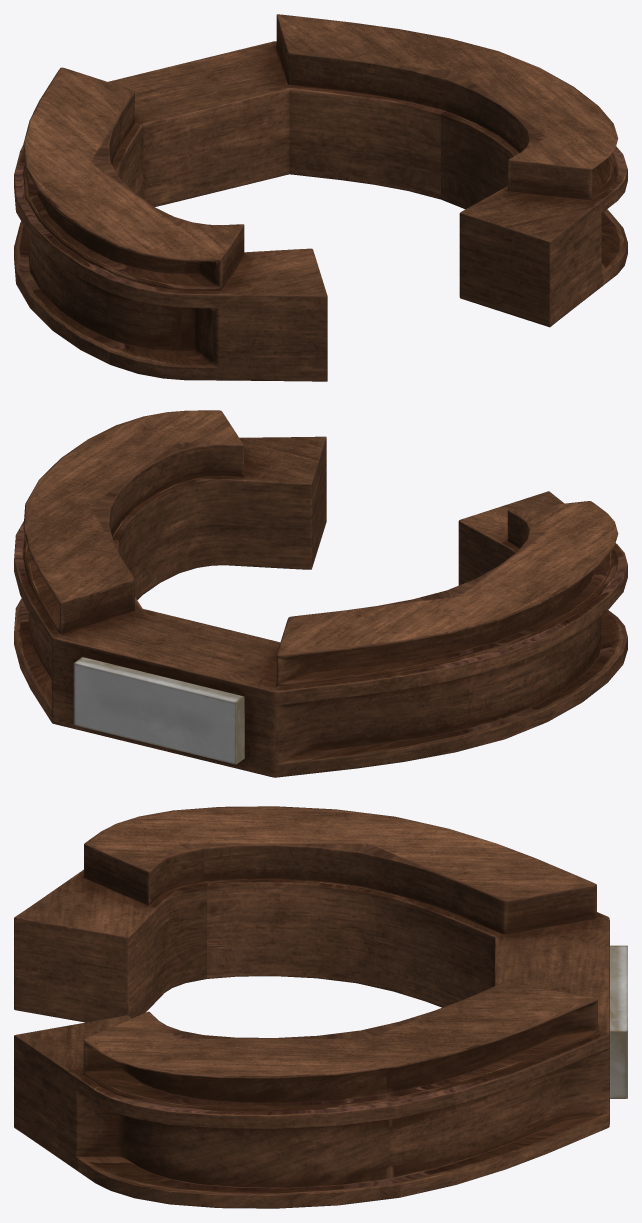
Rendered from Desk_BaseColor.glb.
The picture shows the model from 3 angles, top to bottom: view 1: azimuth 30°, elevation 25°; view 2: azimuth 150°, elevation 25°; view 3: azimuth 270°, elevation 25°; orthographic projection. The views are drawn at different scales.
Visible parts, largest first — view 1: Desk_Alt_High; view 2: Desk_Alt_High; view 3: Desk_Alt_High.
Part boxes in pixels (x1,y1,x2,y2): Desk_Alt_High: (14,14,627,381); Desk_Alt_High: (14,410,627,777); Desk_Alt_High: (14,806,627,1208).
Bounding box in the file's own units: 22.4 × 4.76 × 20.75.
1 material, 1 textured.
